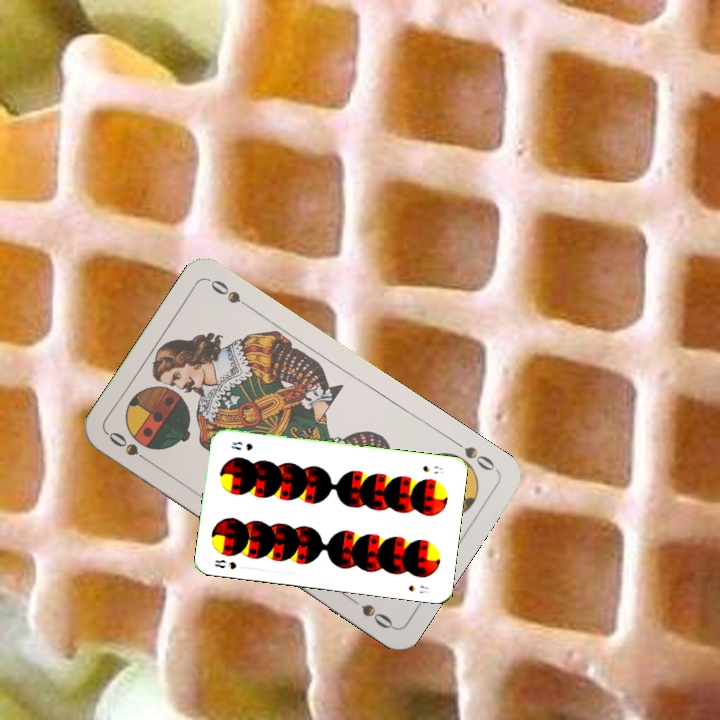S8: (211, 556, 239, 572), (419, 462, 446, 476)
SO: (104, 427, 156, 468), (448, 435, 500, 474)
